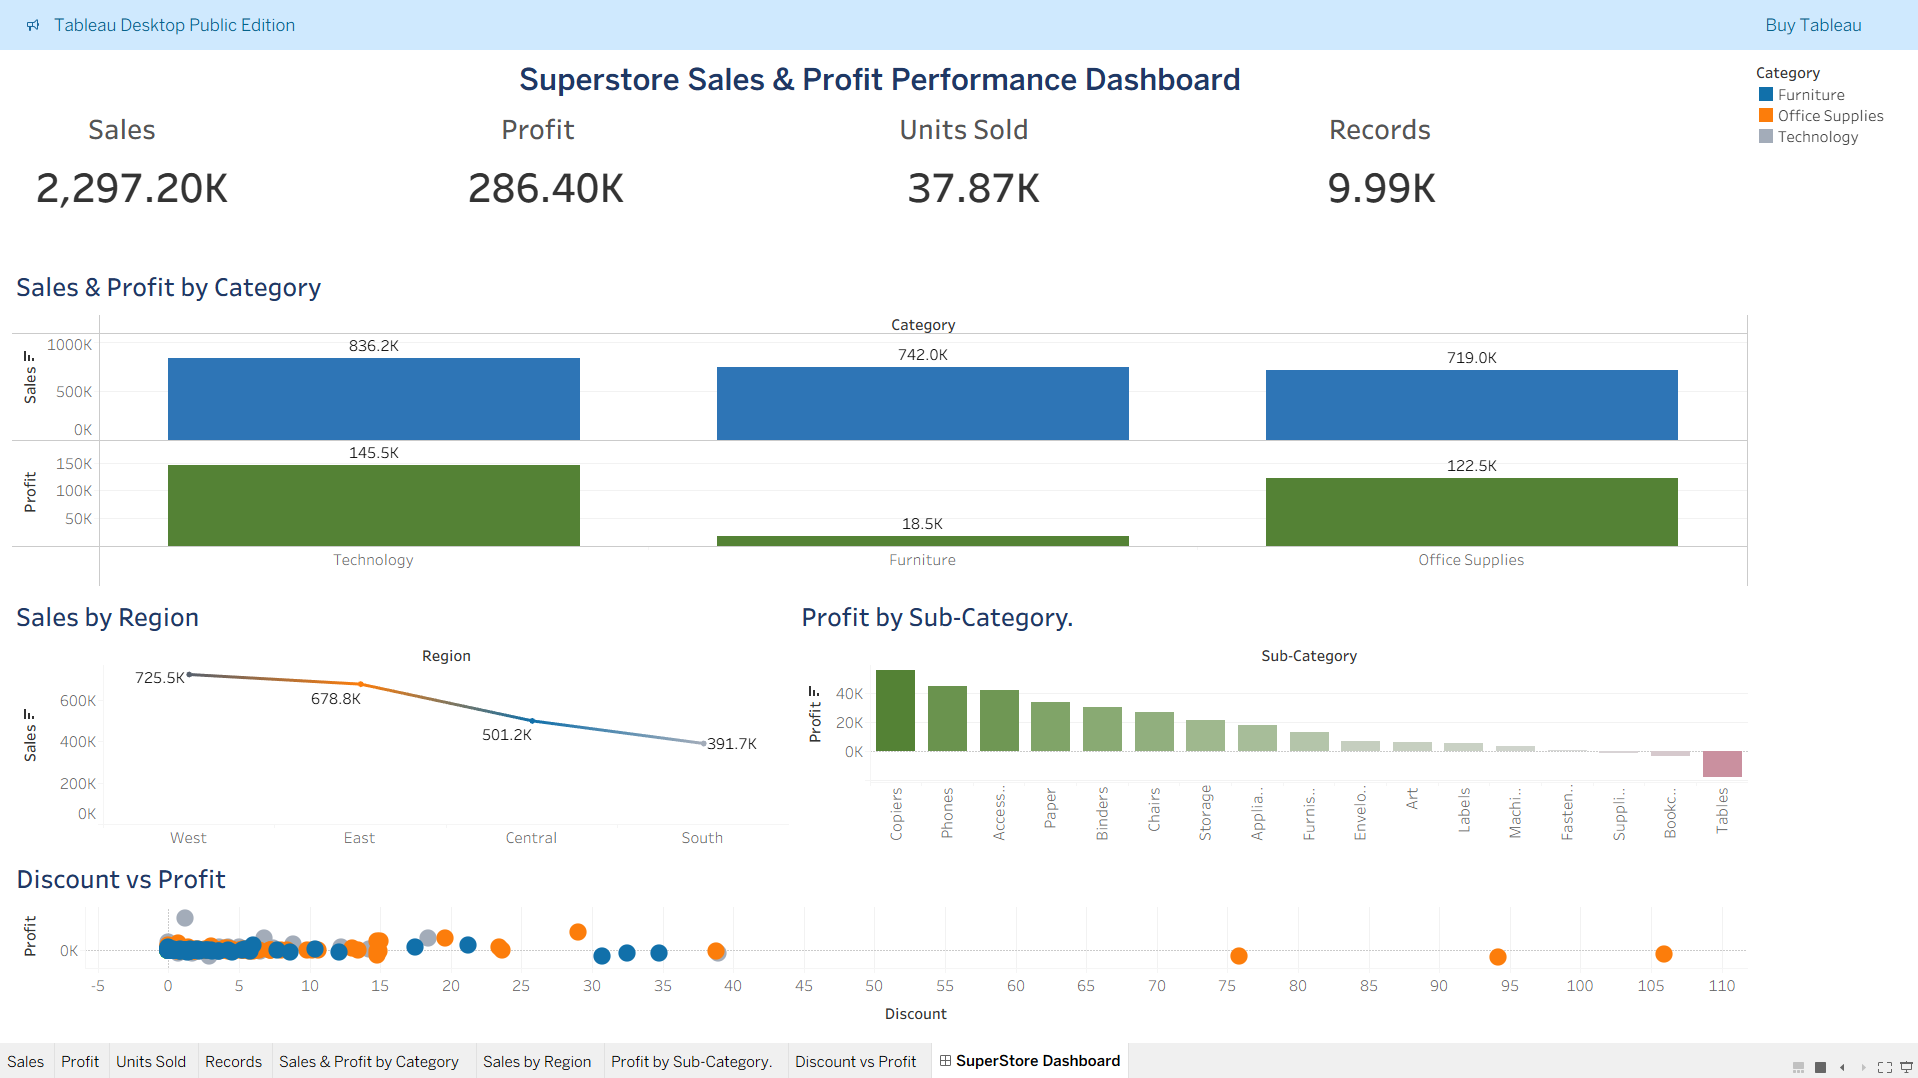

Layout of this report page (visuals, bound fields, positions):
{"tool":"tableau","page":{"name":"SuperStore Dashboard","canvas":[1000,1000],"units":"permille","ordinal":0},"visuals":[{"type":"title","box":[4.2,8.1,908.3,44.3]},{"type":"legend","title":"Discount vs Profit","param":"[federated.189a4yx01tadla13n3m6g0fxsgh6].[none:Category:nk]","box":[912.5,8.1,83.3,93.7]},{"type":"worksheet","title":"Sales","mark":"Automatic","box":[4.2,52.4,227.1,160.1]},{"type":"worksheet","title":"Profit","mark":"Automatic","box":[231.2,52.4,227.1,160.1]},{"type":"worksheet","title":"Units Sold","mark":"Automatic","box":[458.3,52.4,227.1,160.1]},{"type":"worksheet","title":"Records","mark":"Automatic","box":[685.4,52.4,227.1,160.1]},{"type":"worksheet","title":"Sales & Profit by Category","mark":"Automatic","rows":["Sales","Profit"],"cols":["Category"],"box":[4.2,212.3,908.3,332.3]},{"type":"worksheet","title":"Sales by Region","mark":"Line","rows":["Sales"],"cols":["Region"],"box":[4.2,544.6,409,264.3]},{"type":"worksheet","title":"Profit by Sub-Category.","mark":"Automatic","rows":["Profit"],"cols":["Sub-Category"],"box":[413.2,544.6,499.3,264.3]},{"type":"worksheet","title":"Discount vs Profit","mark":"Circle","rows":["Profit"],"cols":["Discount"],"box":[4.2,808.9,908.3,183]}]}

Visuals, with their boxes on the dashboard's canvas, which has no fixed pixel size, in thousandths of its width and height (x1, y1, x2, y2). These are canvas units, not pixel positions in the 1918x1078 screenshot, which may show the page scaled, cropped or inside an application window:
title: 4, 8, 912, 52
"Discount vs Profit" legend: 912, 8, 996, 102
"Sales" worksheet: 4, 52, 231, 212
"Profit" worksheet: 231, 52, 458, 212
"Units Sold" worksheet: 458, 52, 685, 212
"Records" worksheet: 685, 52, 912, 212
"Sales & Profit by Category" worksheet: 4, 212, 912, 545
"Sales by Region" worksheet (Line marks): 4, 545, 413, 809
"Profit by Sub-Category." worksheet: 413, 545, 912, 809
"Discount vs Profit" worksheet (Circle marks): 4, 809, 912, 992
